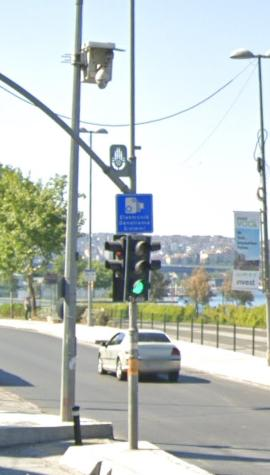greenlight: (122, 231, 157, 305)
